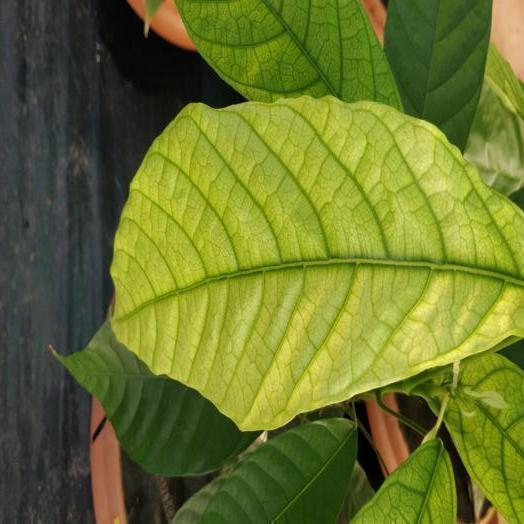Iron: (111, 96, 523, 430), (177, 0, 400, 108), (444, 353, 523, 523), (351, 438, 454, 523)
